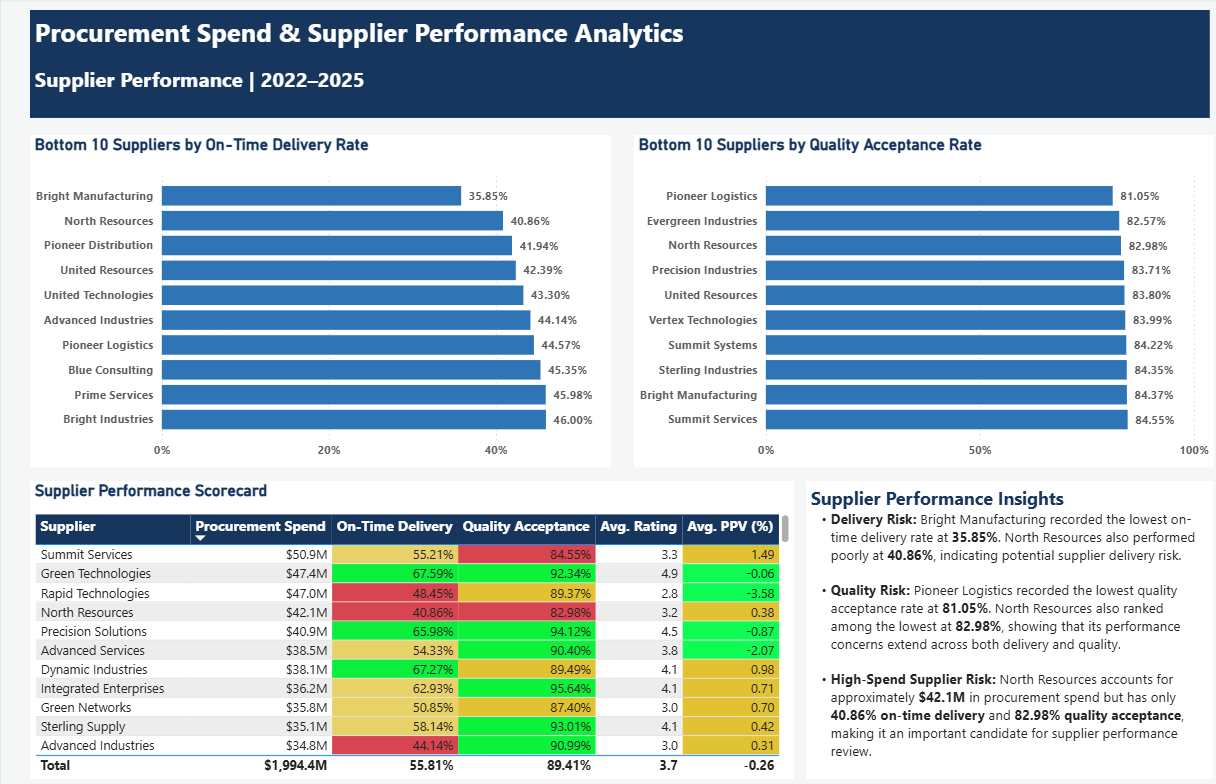

Layout of this report page (visuals, bound fields, positions):
{"tool":"powerbi","page":{"name":"Supplier Performance","canvas":[1280,850],"ordinal":2},"visuals":[{"type":"clusteredBarChart","title":"Bottom 10 Suppliers by On-Time Delivery Rate","fields":{"Category":["Suppliers.SupplierName"],"Y":["PurchaseOrders.On-Time Delivery Rate"]},"box":[30.3,143.6,608,347.9],"z":0},{"type":"clusteredBarChart","title":"Bottom 10 Suppliers by Quality Acceptance Rate","fields":{"Category":["Suppliers.SupplierName"],"Y":["PurchaseOrderItems.Quality Acceptance Rate"]},"box":[662.2,143.6,607,347.9],"z":1000},{"type":"tableEx","title":"Supplier Performance Scorecard","fields":{"Values":["Suppliers.SupplierName","PurchaseOrders.Total Procurement Spend","PurchaseOrders.On-Time Delivery Rate","PurchaseOrderItems.Quality Acceptance Rate","Suppliers.Average Supplier Rating","PurchaseOrderItems.Average PPV %"]},"box":[30.4,505.6,799.8,311.9],"z":2000},{"type":"textbox","box":[30.3,12.8,1235.1,113.3],"z":3000},{"type":"textbox","box":[842.7,505.6,426,311.9],"z":4000}]}

Visuals, with their boxes in screenshot pixels (x1, y1, x2, y2), scaled from the page's 1280x850 canvas onto the 1216x784 screenshot:
"Bottom 10 Suppliers by On-Time Delivery Rate" clusteredBarChart: 29/132/606/453
"Bottom 10 Suppliers by Quality Acceptance Rate" clusteredBarChart: 629/132/1206/453
"Supplier Performance Scorecard" tableEx: 29/466/789/754
textbox: 29/12/1202/116
textbox: 801/466/1205/754
